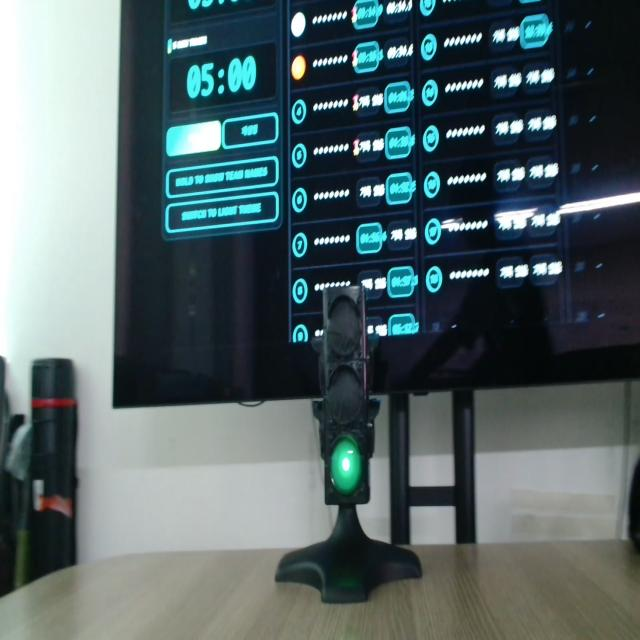green_light: (331, 437, 361, 494)
